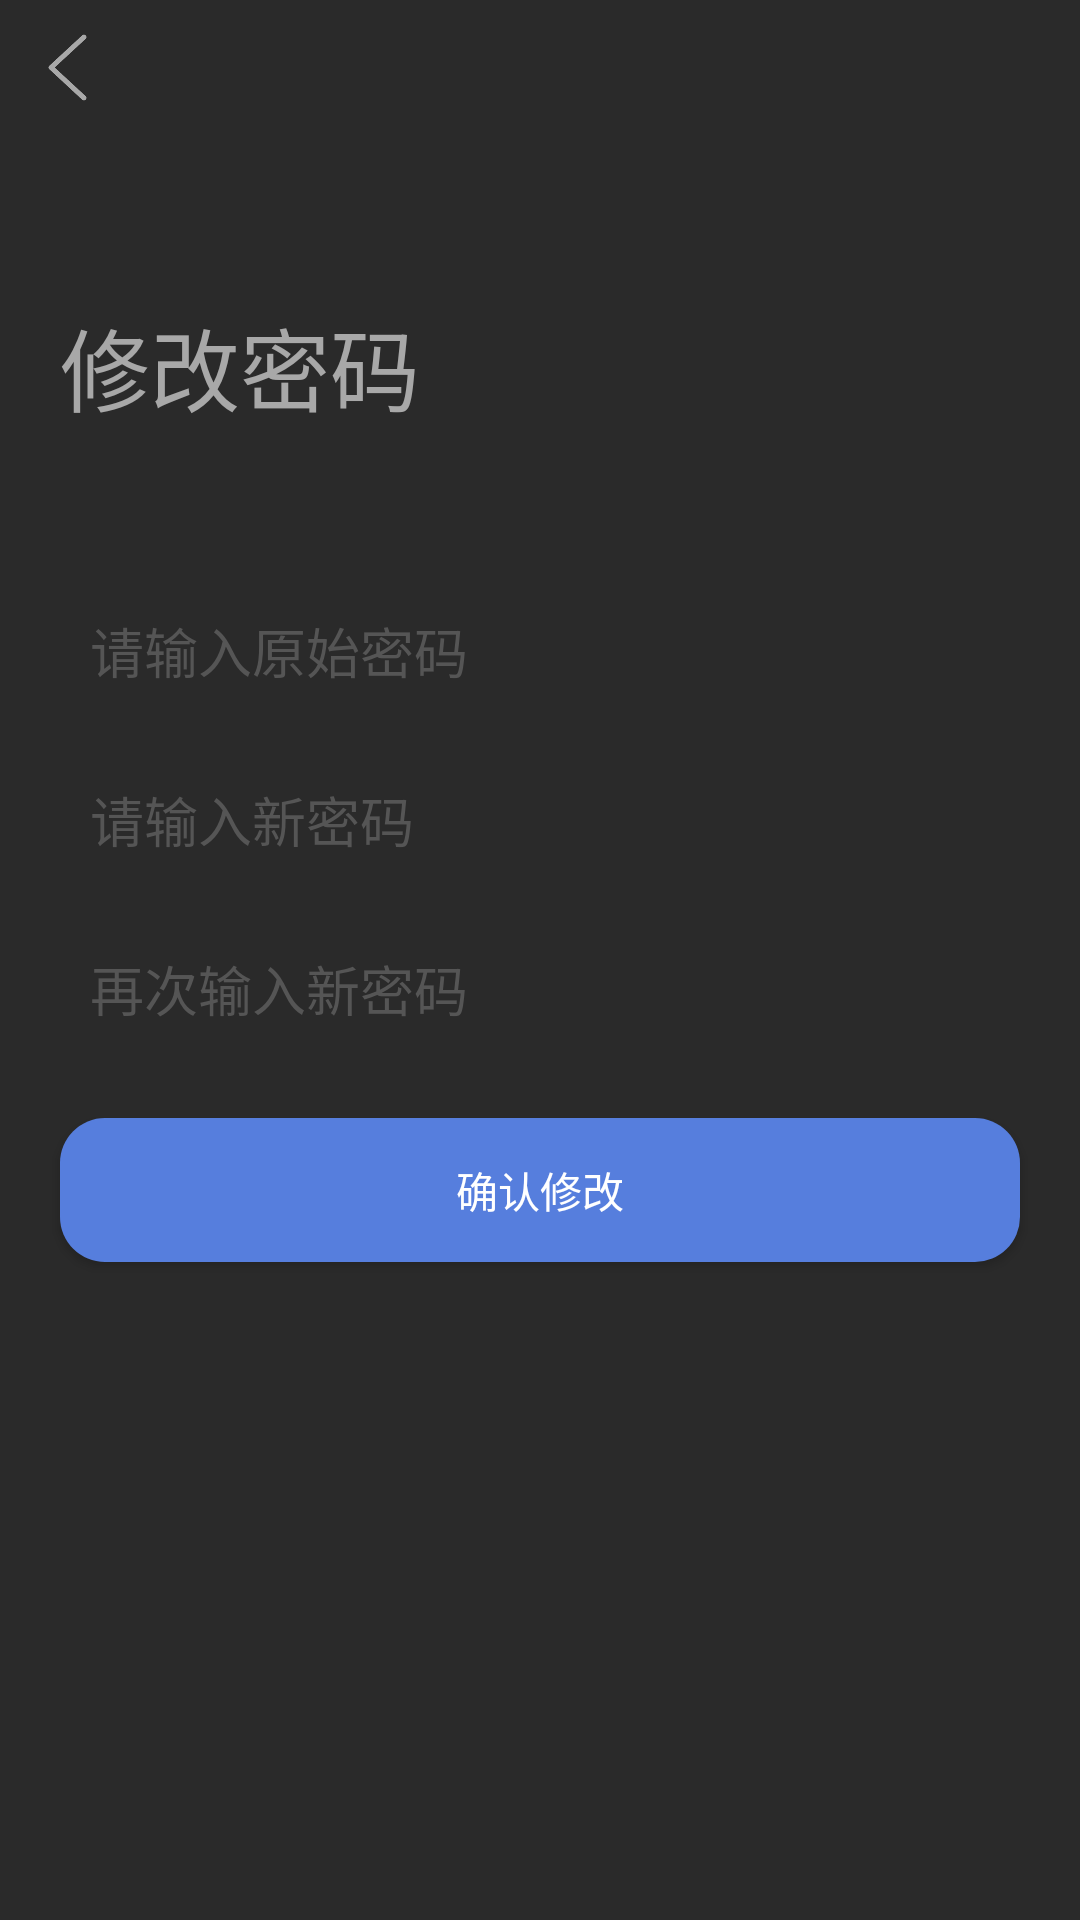

Where to tap for icons on this 1080 x 1920 app screen, as (x=x, y=y):
ba home return: (x=67, y=67)
